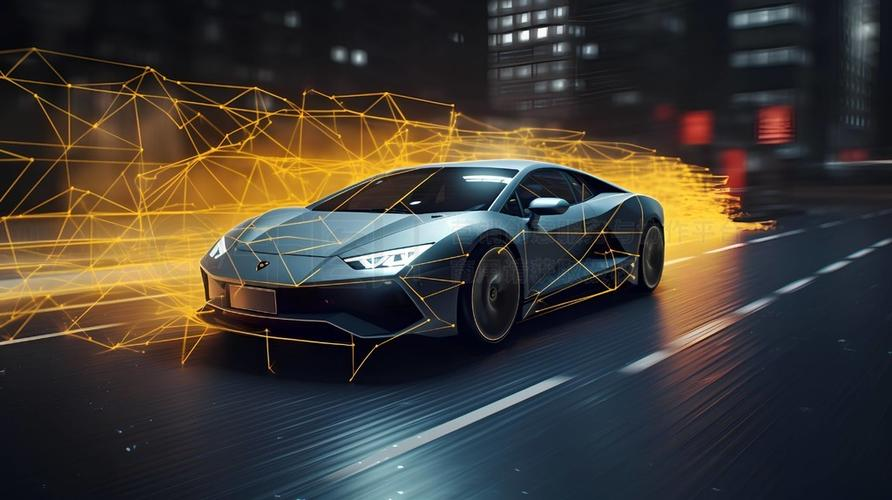汽车: (194, 154, 675, 365)
